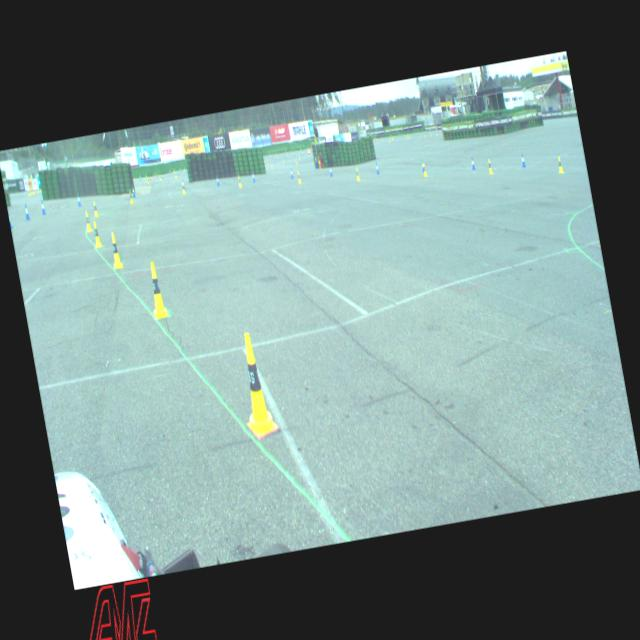blue_cone: (39, 199, 46, 215), (520, 152, 526, 168), (24, 203, 29, 219), (76, 193, 82, 206), (374, 162, 380, 175), (8, 211, 12, 229), (470, 156, 475, 170), (419, 159, 424, 172), (131, 185, 136, 197), (328, 164, 332, 177), (215, 174, 219, 185), (251, 171, 255, 182), (289, 168, 293, 178), (182, 179, 185, 190), (314, 155, 318, 163), (177, 169, 179, 176), (139, 173, 141, 180), (302, 149, 304, 156), (161, 172, 163, 178), (155, 171, 157, 177), (272, 158, 274, 164), (292, 150, 294, 156), (295, 153, 297, 159), (179, 166, 181, 172), (169, 168, 171, 174), (282, 153, 284, 158), (416, 132, 418, 136), (425, 130, 427, 134), (415, 132, 417, 136), (271, 154, 272, 159), (395, 134, 396, 139)
large_orange_cone: (307, 146, 309, 155), (308, 146, 310, 155)
orange_cone: (152, 172, 154, 178), (264, 158, 266, 164), (294, 158, 296, 164), (152, 176, 154, 181), (375, 136, 376, 142)
yellow_cone: (232, 330, 278, 438), (144, 260, 168, 318), (108, 232, 122, 268), (91, 220, 102, 247), (83, 210, 92, 232), (486, 158, 494, 174), (556, 156, 563, 173), (92, 200, 98, 217), (354, 167, 360, 181), (422, 162, 428, 176), (236, 175, 242, 188), (128, 190, 133, 203), (297, 170, 301, 183), (181, 181, 185, 194), (316, 154, 320, 163), (174, 172, 177, 178), (408, 132, 411, 138), (296, 158, 298, 165), (270, 160, 272, 167), (159, 173, 161, 180), (388, 136, 390, 143), (423, 130, 425, 137), (435, 129, 437, 136), (147, 178, 149, 184), (172, 166, 174, 172), (266, 159, 268, 165), (146, 176, 148, 182), (282, 157, 284, 163), (28, 190, 30, 196), (29, 190, 32, 194), (31, 188, 33, 194), (32, 188, 34, 194), (36, 186, 38, 192), (39, 186, 41, 192), (154, 171, 156, 177), (157, 170, 159, 176), (268, 150, 270, 156), (297, 154, 299, 160), (380, 134, 382, 140), (388, 134, 391, 138), (391, 134, 393, 140), (404, 132, 406, 138), (406, 132, 408, 138), (419, 132, 421, 138), (430, 131, 432, 137), (183, 166, 185, 171), (274, 152, 276, 156), (300, 146, 302, 150), (374, 136, 375, 141)
